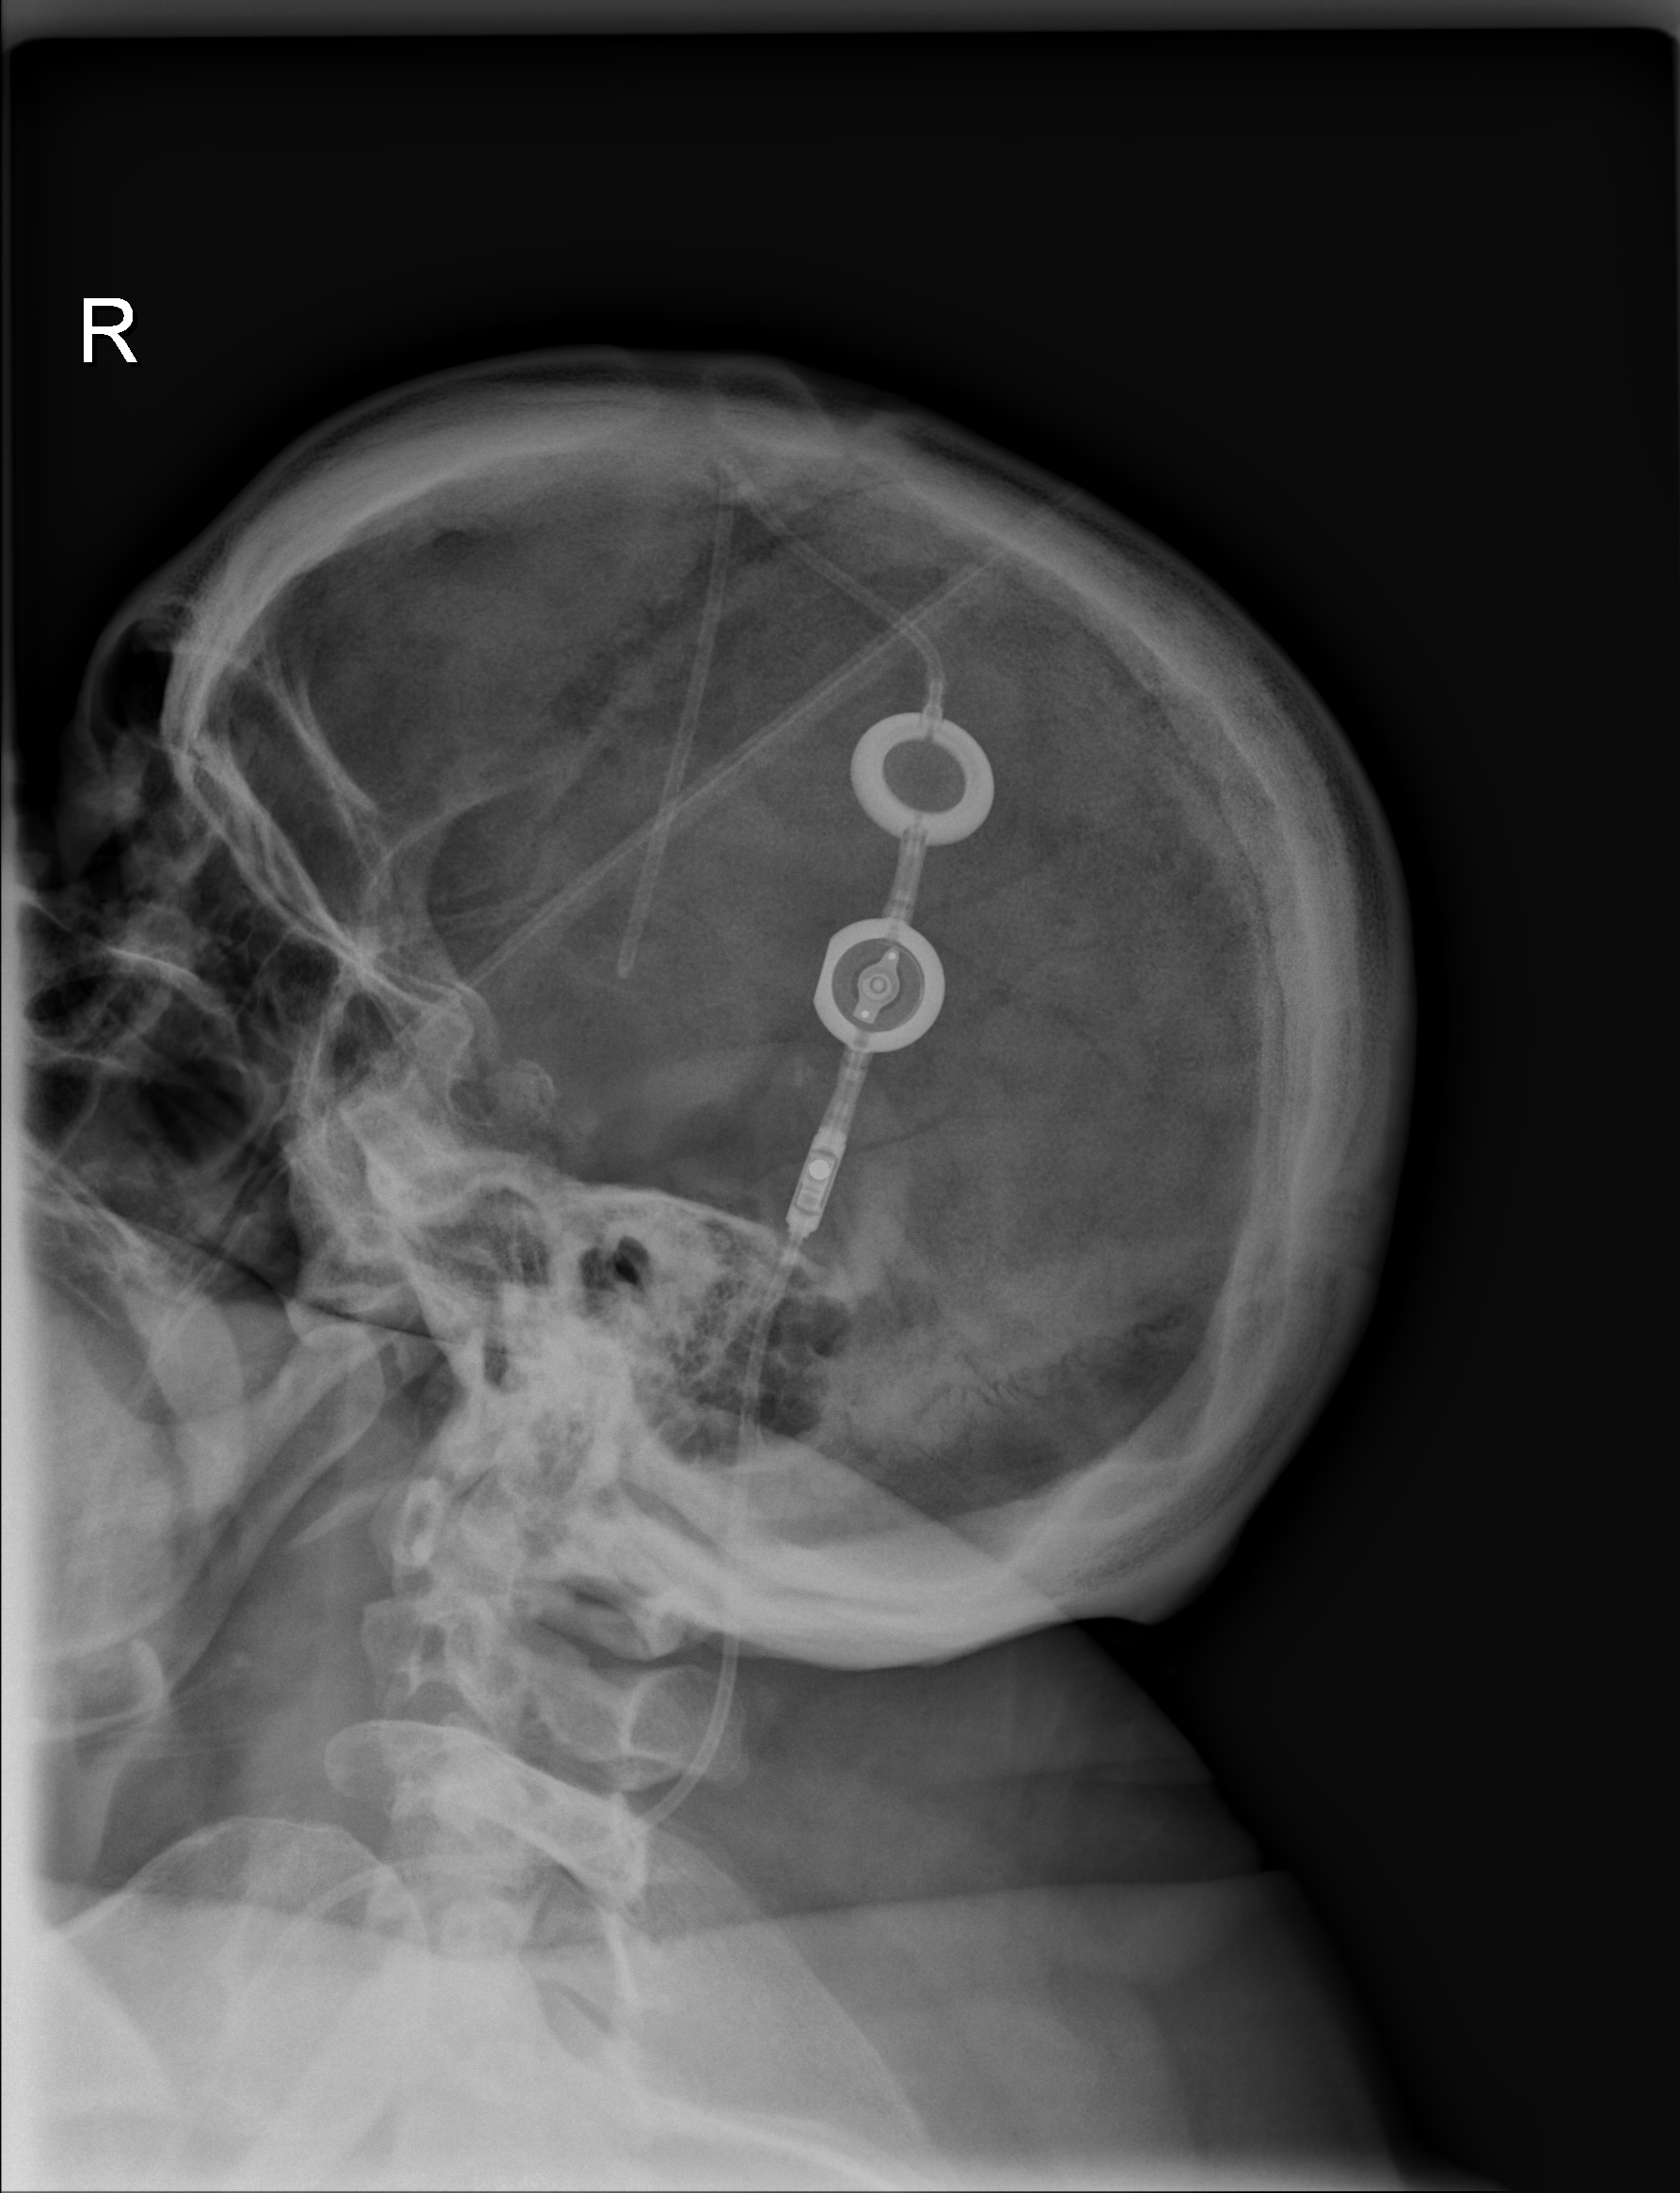proGAV: (806, 910, 951, 1062)
proGAV Gravitationseinheit: (782, 1120, 852, 1249)
